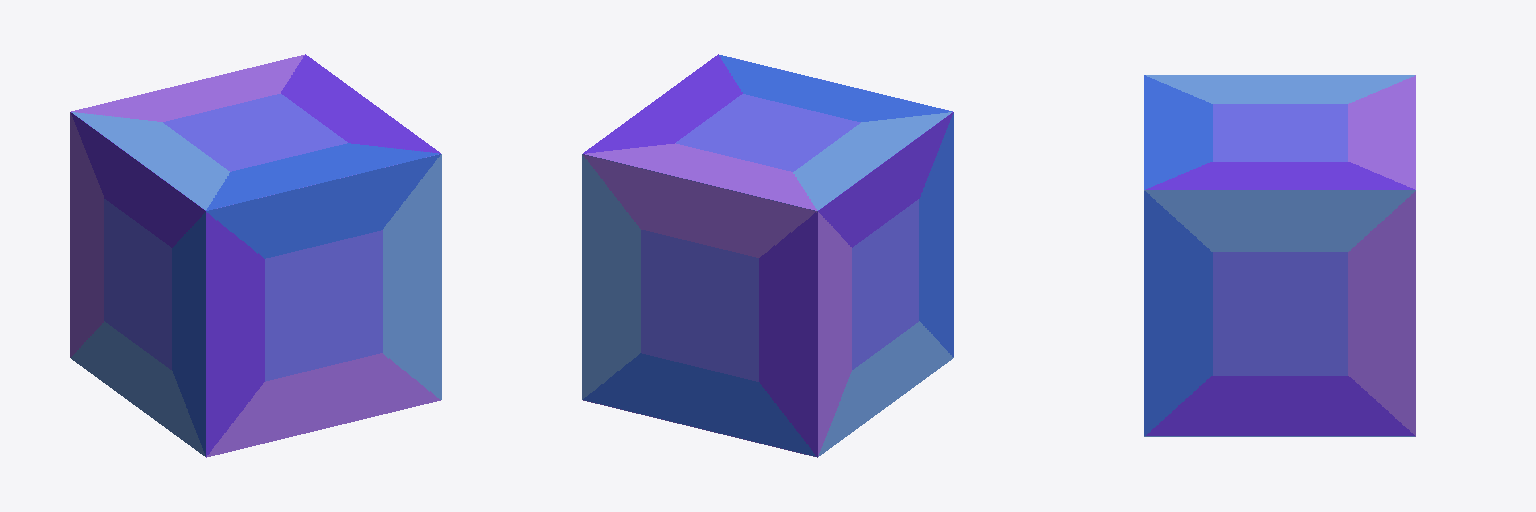
3 renders of one model, left to right at view 1: azimuth 30°, elevation 25°; view 2: azimuth 150°, elevation 25°; view 3: azimuth 270°, elevation 25°, orthographic.
Visible parts, largest first — view 1: Cube.001; view 2: Cube.001; view 3: Cube.001.
Part boxes in pixels (x1,y1,x2,y2): Cube.001: (70, 54, 441, 457); Cube.001: (582, 54, 953, 457); Cube.001: (1144, 75, 1415, 436).
Bounding box in the file's own units: 2 × 2 × 2.
Materials: 1 (1 with a texture image).